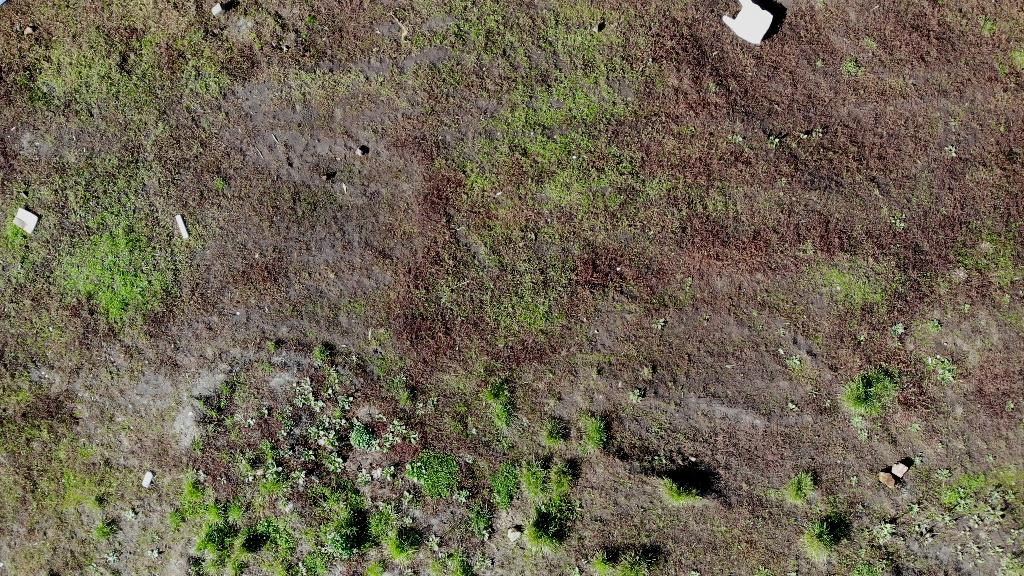garbage: (720, 0, 775, 49), (720, 0, 775, 48), (9, 207, 41, 235), (10, 205, 40, 234), (172, 211, 191, 240), (140, 468, 157, 490), (1, 0, 8, 6)
